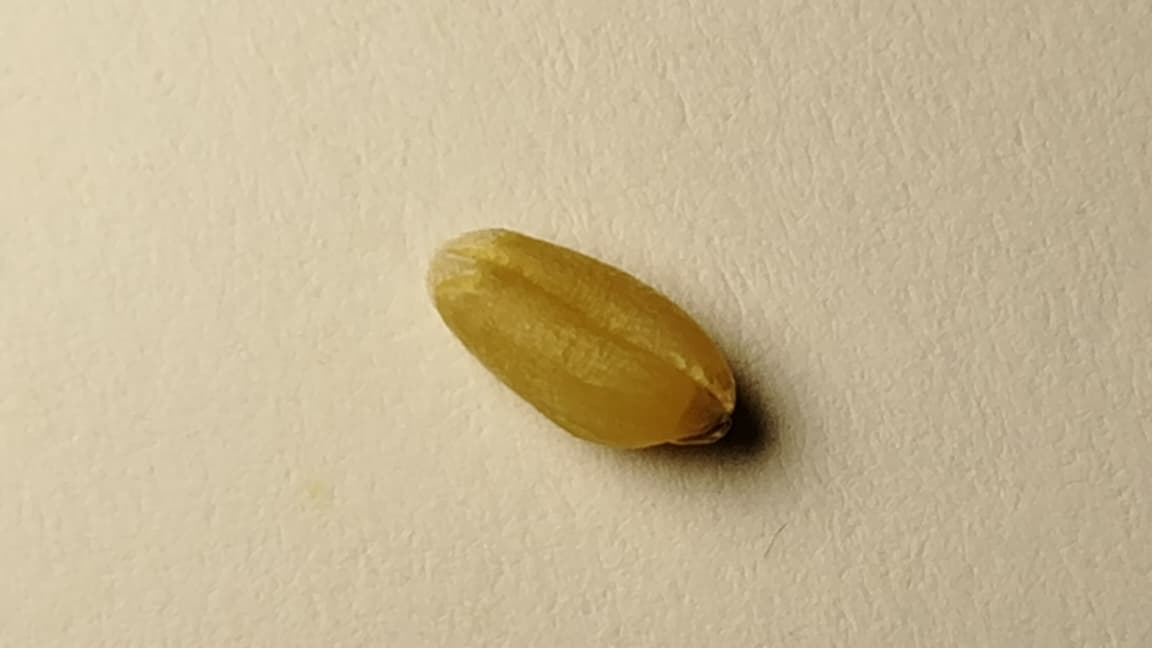healthy: (428, 228, 736, 449)
